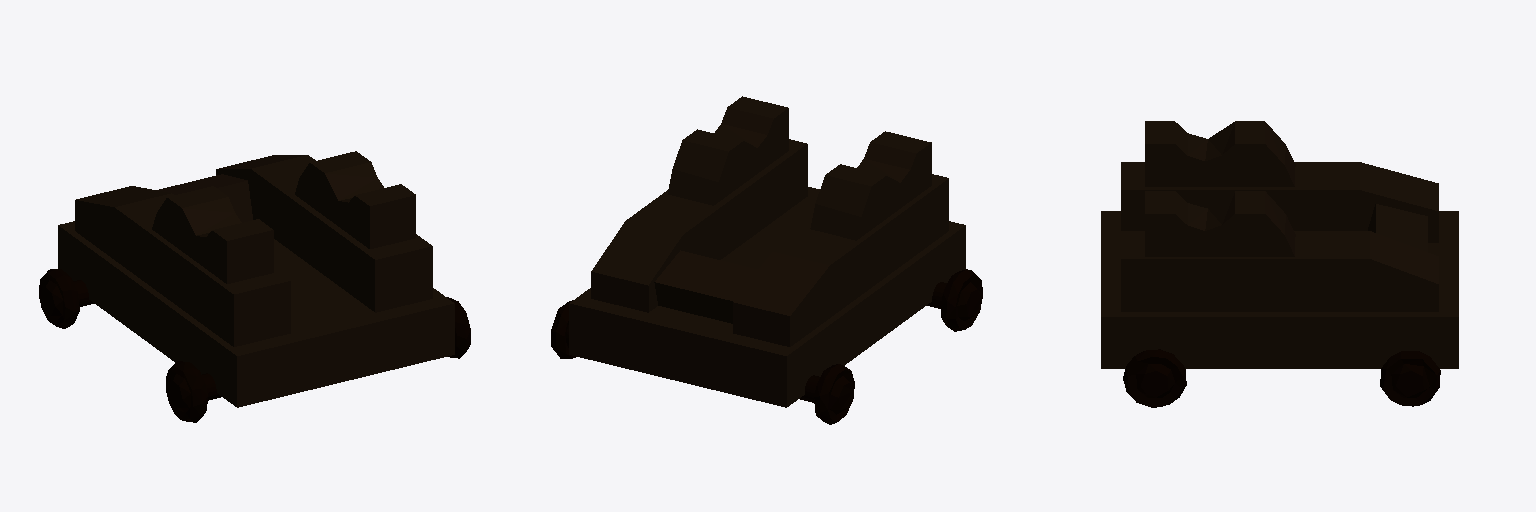
The model's file is cannon_base.obj.
3 views of the same model, side by side, from view 1: azimuth 30°, elevation 25°; view 2: azimuth 150°, elevation 25°; view 3: azimuth 270°, elevation 25° (orthographic).
Parts seen in each view (by area): view 1: Cube.004_Cube.004_Wood_Cube.004_Cube.004_Wood_Wood_Cube.004_Cub; view 2: Cube.004_Cube.004_Wood_Cube.004_Cube.004_Wood_Wood_Cube.004_Cub; view 3: Cube.004_Cube.004_Wood_Cube.004_Cube.004_Wood_Wood_Cube.004_Cub.
Boxes of the visible parts, <box> form: Cube.004_Cube.004_Wood_Cube.004_Cube.004_Wood_Wood_Cube.004_Cub: <box>39,151,470,422</box>; Cube.004_Cube.004_Wood_Cube.004_Cube.004_Wood_Wood_Cube.004_Cub: <box>551,96,982,424</box>; Cube.004_Cube.004_Wood_Cube.004_Cube.004_Wood_Wood_Cube.004_Cub: <box>1101,121,1458,407</box>.
Bounding box in the file's own units: 2.14 × 1.25 × 2.32.